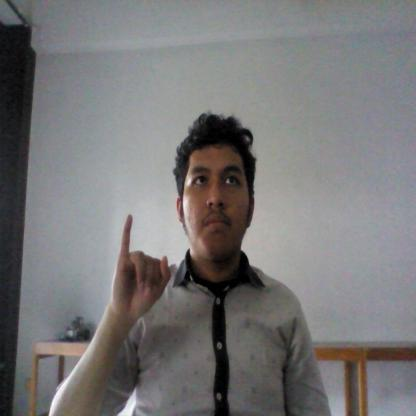I: (110, 204, 172, 322)
